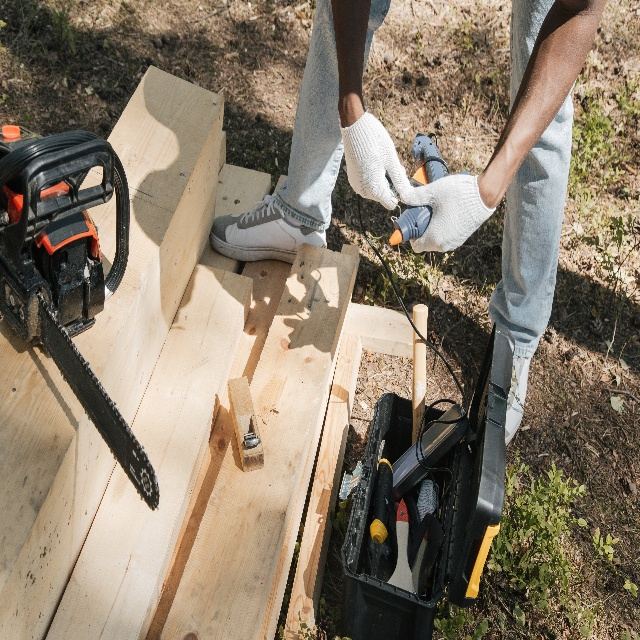Guantes: (400, 172, 497, 253), (339, 109, 411, 210)
